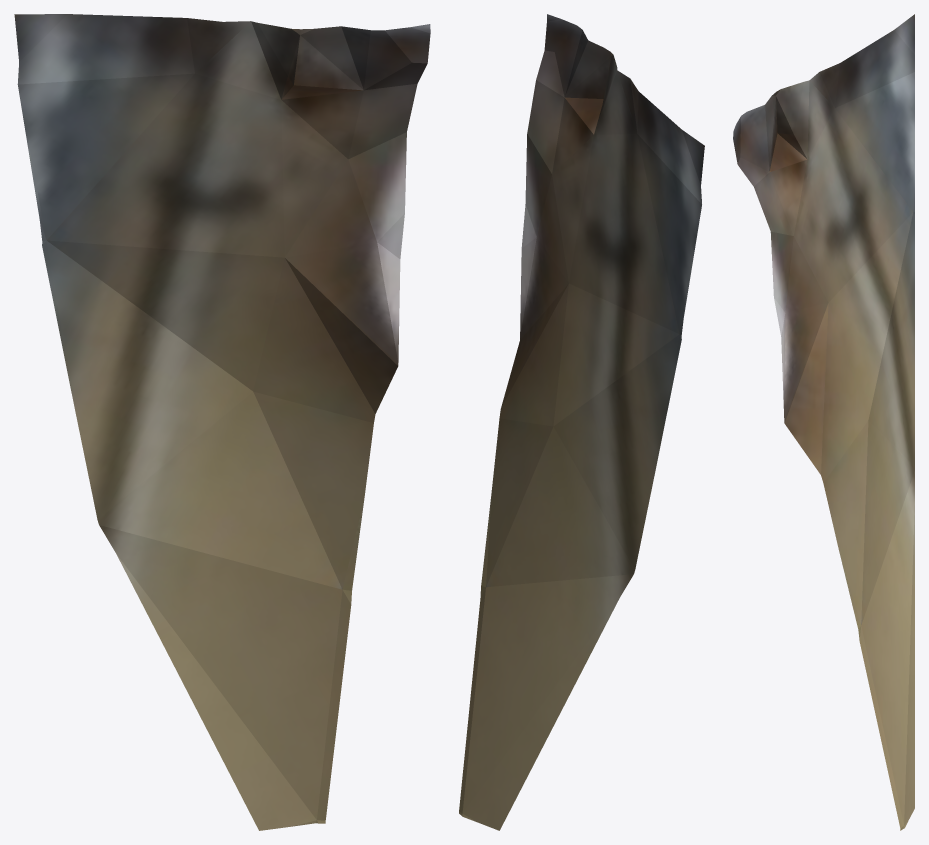
The picture shows the model from 3 angles, left to right: view 1: azimuth 30°, elevation 25°; view 2: azimuth 150°, elevation 25°; view 3: azimuth 270°, elevation 25°; orthographic projection. The views are drawn at different scales.
Size of the model in its own units: 0.3022 by 0.8374 by 0.1973.
1 material, 1 textured.
